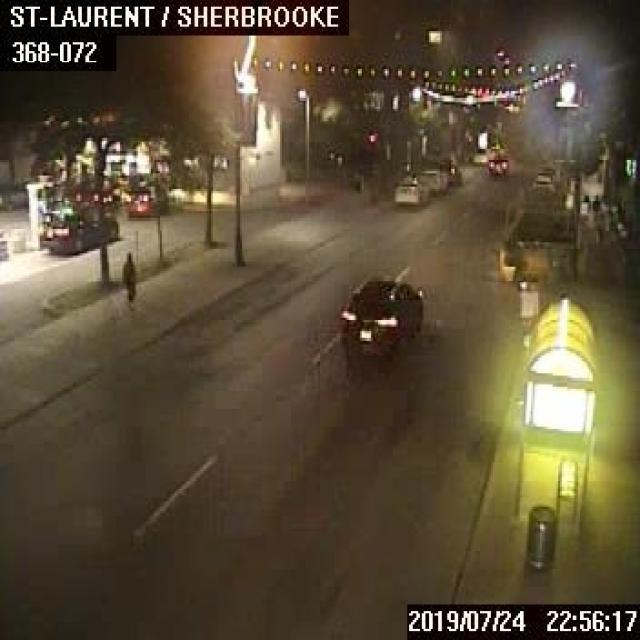pedestrian: (121, 252, 135, 300)
vehicle: (340, 278, 424, 351), (38, 202, 118, 252), (126, 184, 166, 216), (391, 173, 428, 205), (418, 167, 446, 193), (439, 156, 460, 184), (486, 153, 508, 176), (471, 147, 493, 163)
